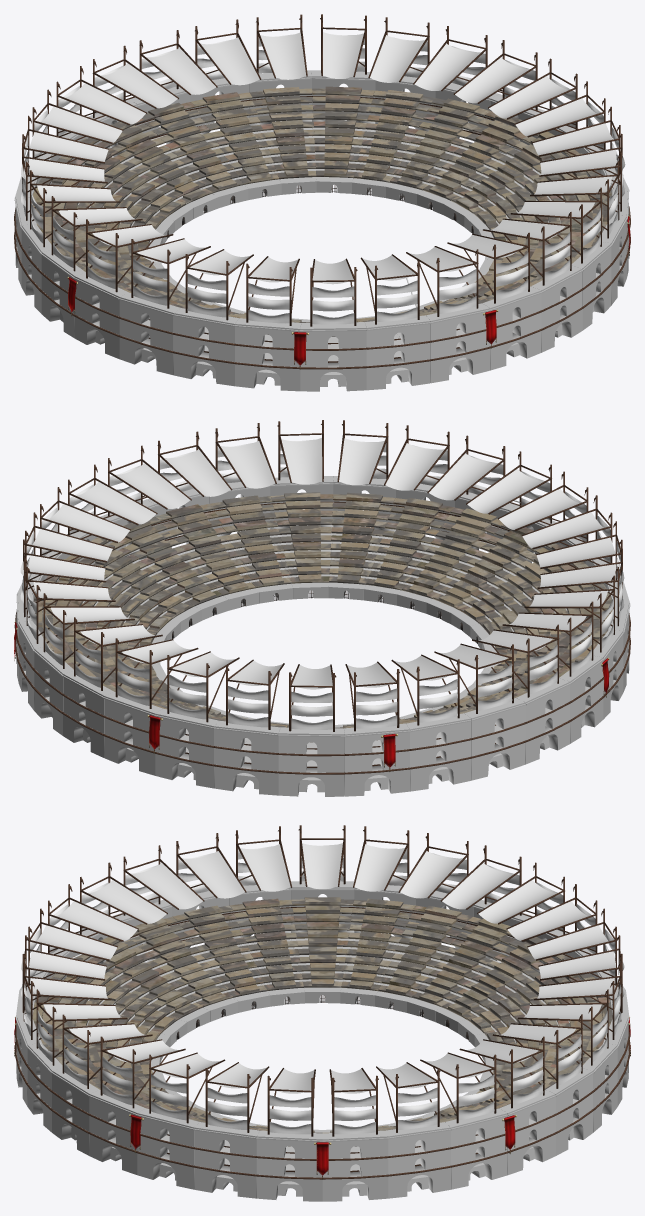
The model's file is Arena.fbx.
The picture shows the model from 3 angles, top to bottom: view 1: azimuth 30°, elevation 25°; view 2: azimuth 150°, elevation 25°; view 3: azimuth 270°, elevation 25°; orthographic projection.
Visible parts, largest first — view 1: Arena; view 2: Arena; view 3: Arena.
Boxes of the visible parts, x1,y1,x2,y2 form: Arena: (14, 14, 630, 391); Arena: (14, 420, 630, 796); Arena: (14, 825, 630, 1201).
Bounding box in the file's own units: 6658 × 1432 × 6645.
